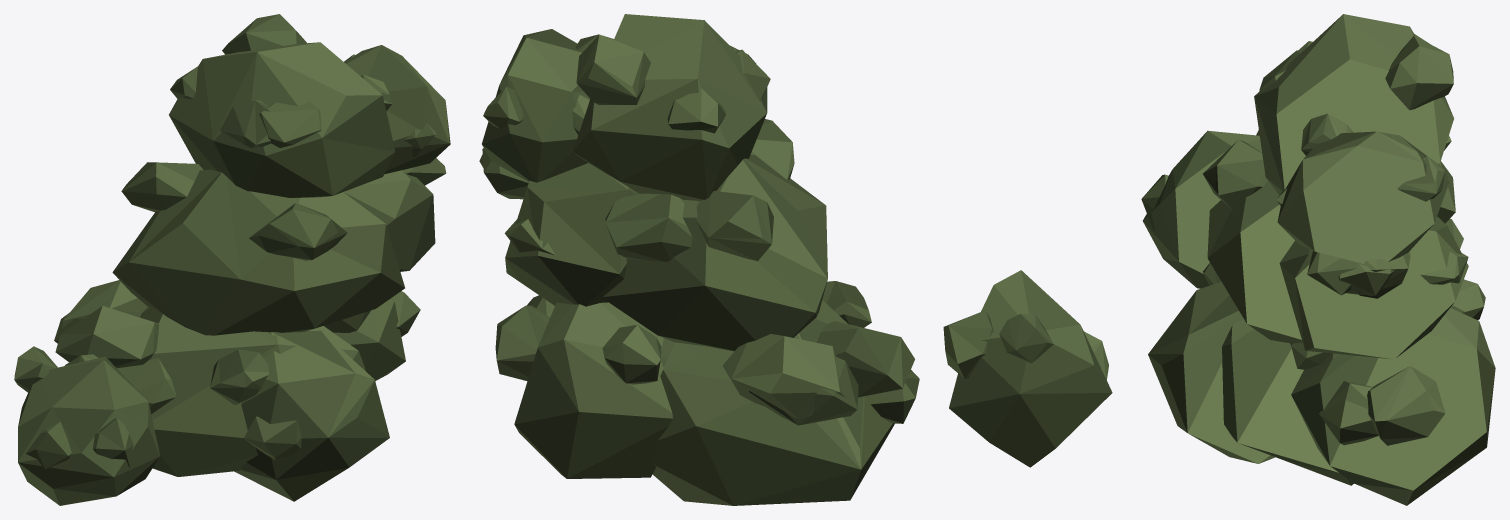
File: Leaves_C.glb
3 views of the same model, side by side, from view 1: azimuth 30°, elevation 25°; view 2: azimuth 150°, elevation 25°; view 3: azimuth 270°, elevation 25° (orthographic). The views are drawn at different scales.
Visible parts, largest first — view 1: Leaves; view 2: Leaves; view 3: Leaves.
Boxes of the visible parts, x1,y1,x2,y2 form: Leaves: [14, 14, 450, 505]; Leaves: [479, 14, 1112, 505]; Leaves: [1141, 14, 1495, 505].
Size of the model in its own units: 22.91 by 19.25 by 13.32.
